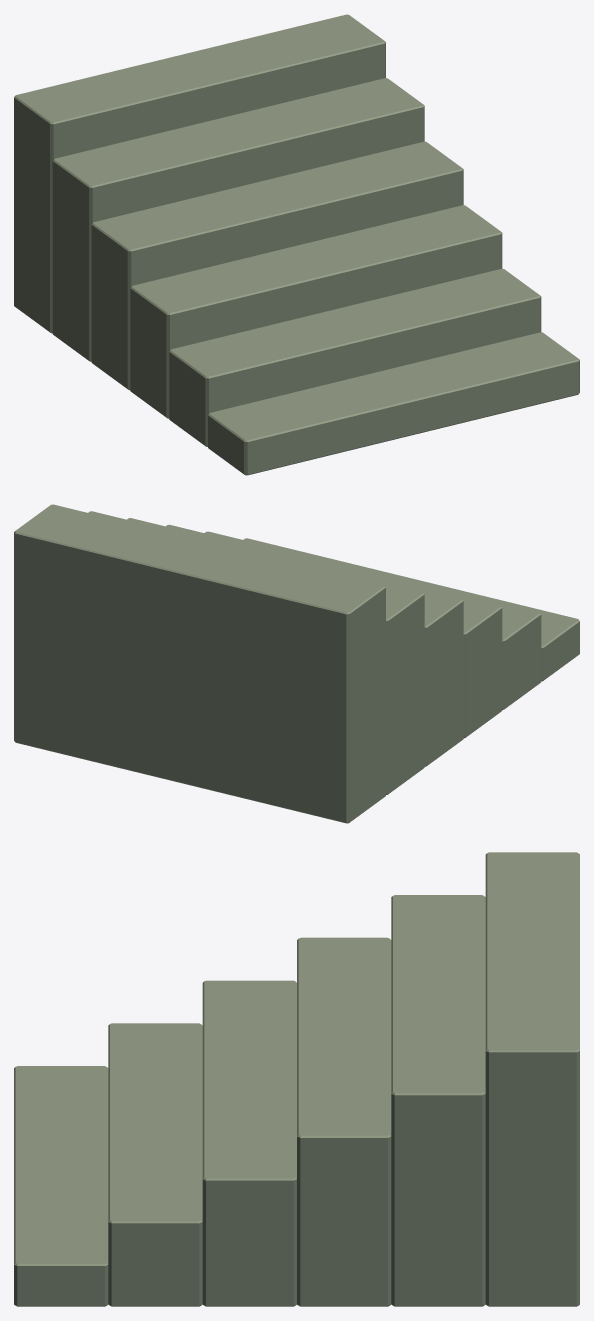
Rendered from stair-full.glb.
3 renders of one model, top to bottom at view 1: azimuth 30°, elevation 25°; view 2: azimuth 150°, elevation 25°; view 3: azimuth 270°, elevation 25°, orthographic. The views are drawn at different scales.
Visible parts, largest first — view 1: stair-full__body; view 2: stair-full__body; view 3: stair-full__body.
Part boxes in pixels (bbox=[...]): stair-full__body: bbox=[14, 14, 579, 475]; stair-full__body: bbox=[14, 504, 579, 823]; stair-full__body: bbox=[14, 852, 579, 1306].
Bounding box in the file's own units: 2 × 1.2 × 2.4.
